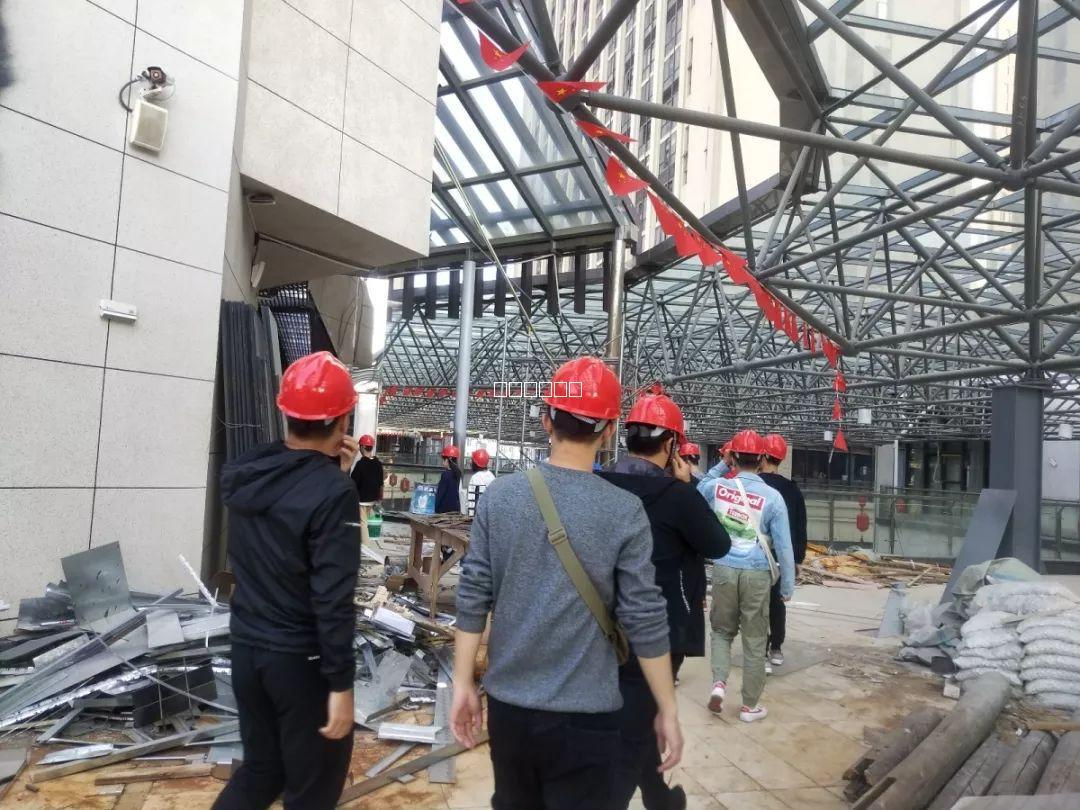helmet: (274, 353, 363, 421), (543, 355, 623, 423), (624, 394, 688, 441), (731, 430, 766, 456), (764, 433, 788, 463), (473, 449, 492, 470), (678, 443, 702, 458), (442, 446, 461, 460), (359, 434, 376, 448)
